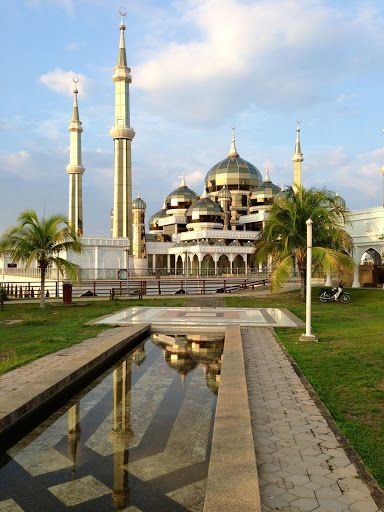Mosque: (49, 46, 302, 260)
